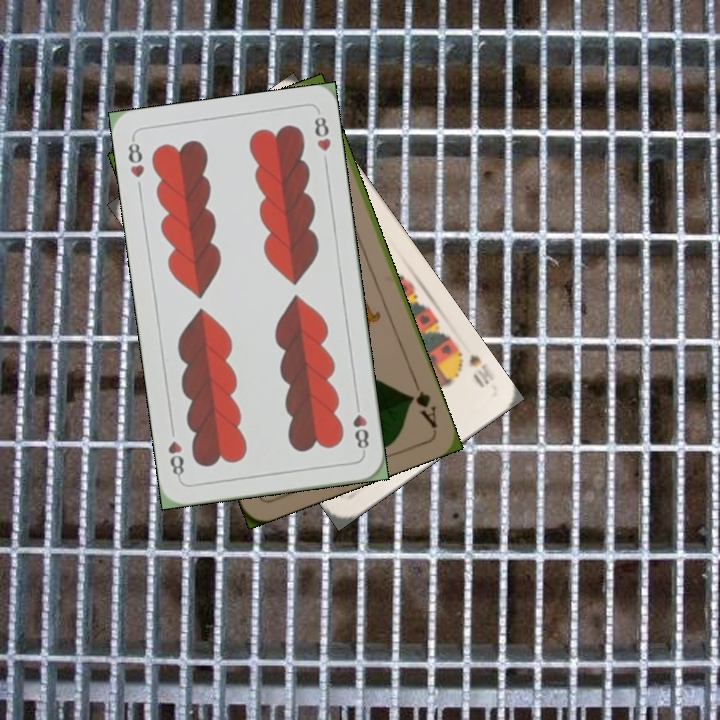GA: (405, 375, 440, 431)
H8: (349, 397, 371, 456), (124, 134, 147, 180)
S10: (450, 343, 497, 390)
